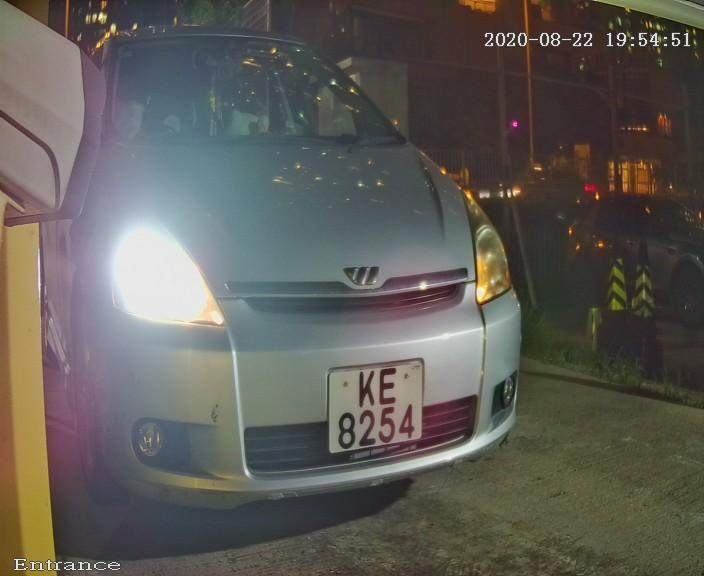Car: (10, 1, 560, 561)
License Plate: (318, 350, 431, 466)
